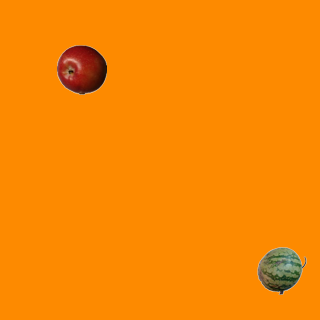Apple Braeburn: (56, 44, 106, 94)
Watermelon: (256, 245, 306, 295)
